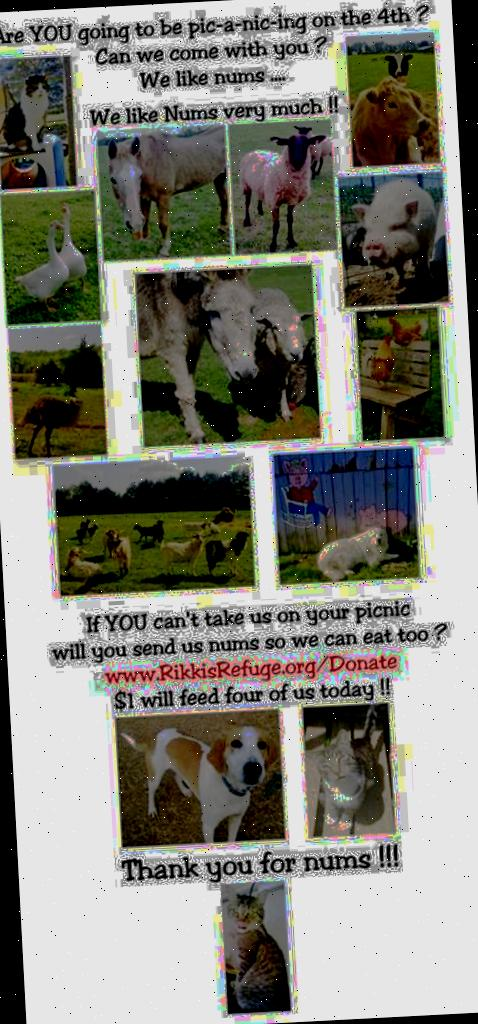Sheep: (240, 133, 328, 254), (253, 284, 323, 430), (352, 72, 446, 168), (296, 121, 328, 171)
